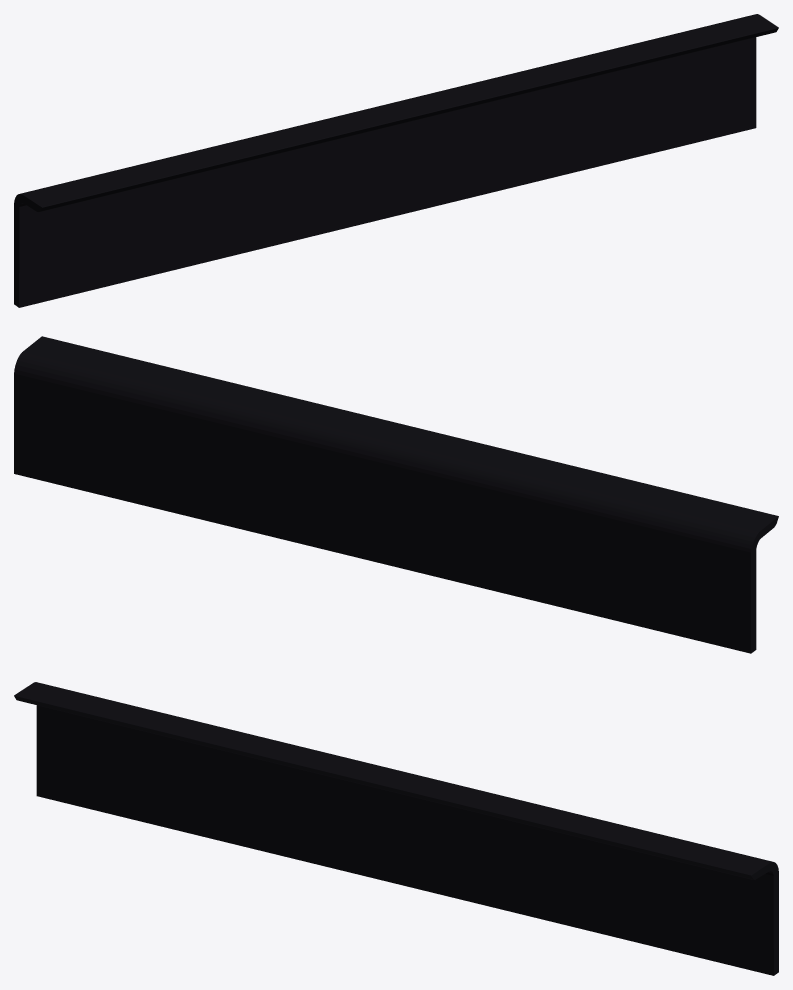
The model's file is grand_piano_keyboard_cover.gltf.
3 views of the same model, one above another, from view 1: azimuth 30°, elevation 25°; view 2: azimuth 150°, elevation 25°; view 3: azimuth 330°, elevation 25° (orthographic).
Visible parts, largest first — view 1: defaultMaterial.056; view 2: defaultMaterial.056; view 3: defaultMaterial.056.
Part boxes in pixels (bbox=[...]): defaultMaterial.056: bbox=[14, 14, 778, 307]; defaultMaterial.056: bbox=[14, 336, 778, 653]; defaultMaterial.056: bbox=[14, 682, 778, 975].
Bounding box in the file's own units: 28.58 × 4.35 × 1.88.
Materials: 1 (1 with a texture image).
